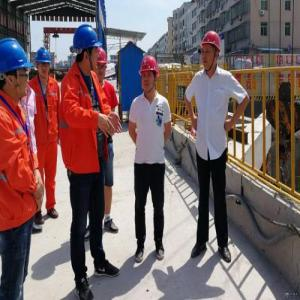blue: (3, 39, 31, 101), (73, 23, 100, 71), (35, 46, 54, 79)
red: (201, 31, 221, 72), (140, 55, 161, 94), (95, 48, 109, 83)
